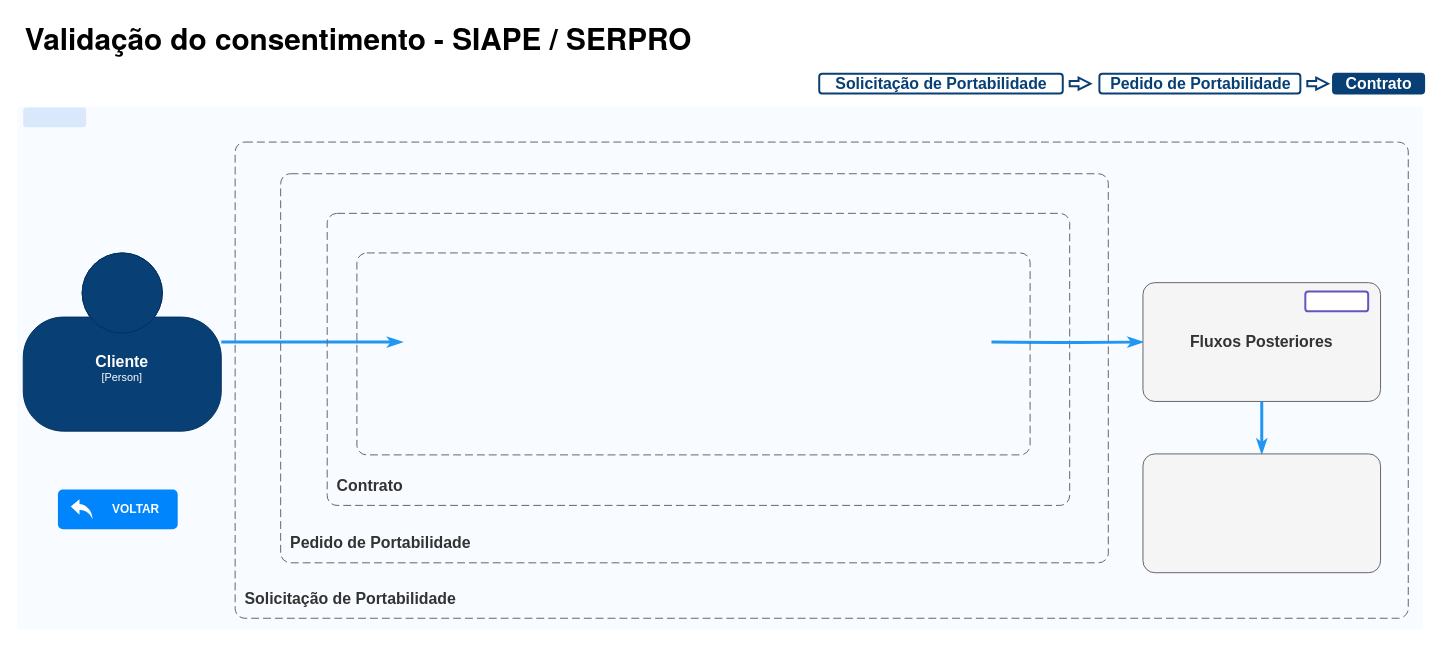
Some shapes in this 1441 by 646 pixel diagram are drawn without their labels. The centre of each missing label's shape, as x and y in pixels:
Consentimento SIAPE/SERPRO: point 693,353
Diagrama: point 54,117
expandir: point 1336,301
Fim da jornada: point 1261,513
